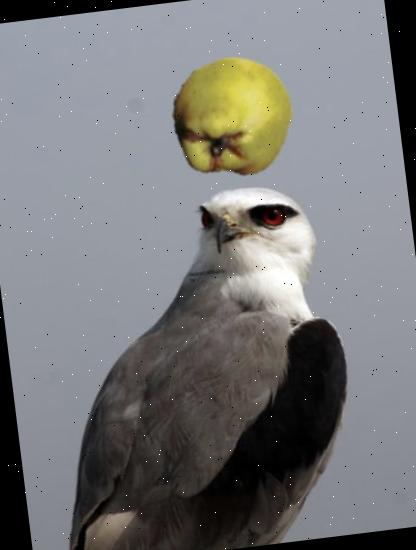Quince: (162, 48, 299, 185)
